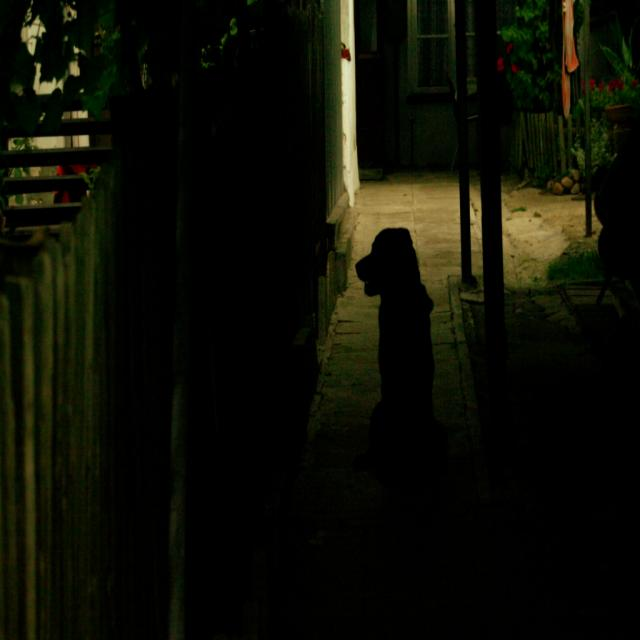Dog: (335, 218, 452, 492)
